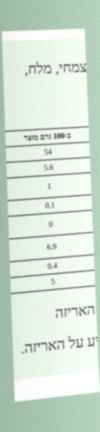carbs: (44, 200, 56, 211)
energy: (43, 147, 53, 157)
fat: (43, 162, 55, 173)
protein: (46, 260, 58, 271)
